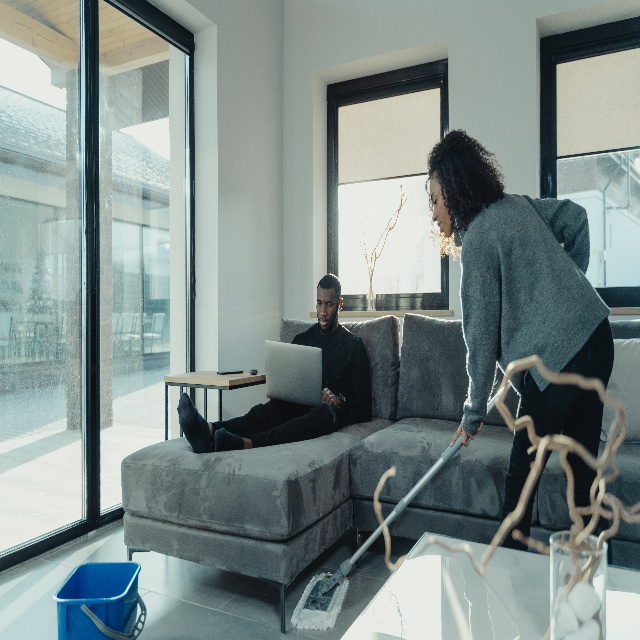Sin_guantes: (449, 421, 483, 448), (321, 386, 337, 406)
